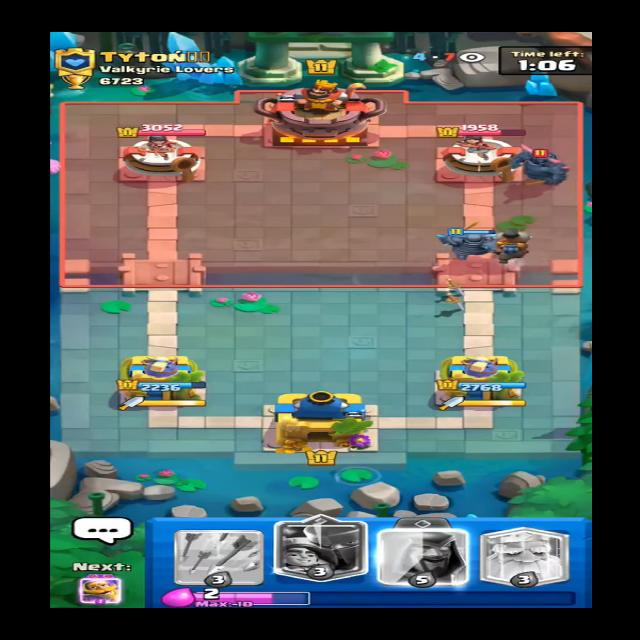pekka: (501, 142, 581, 190)
